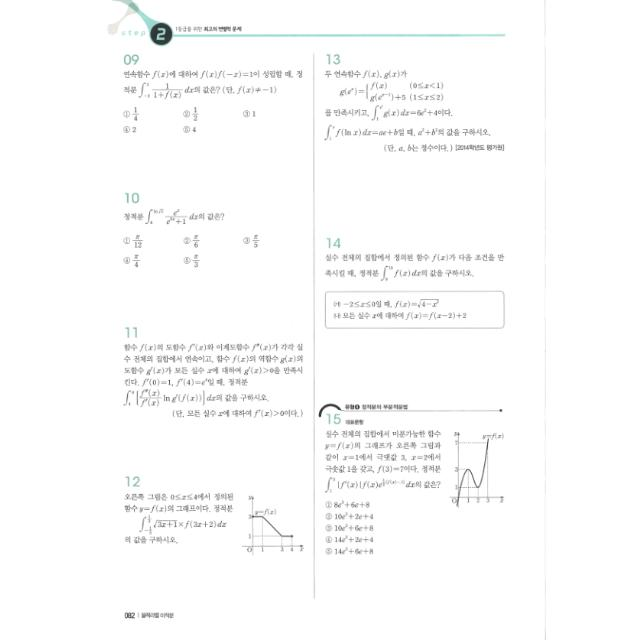multiple: (315, 390, 515, 562), (113, 47, 307, 141), (116, 184, 308, 274)
short: (316, 46, 510, 162), (318, 226, 510, 334), (116, 318, 308, 426), (115, 466, 308, 558)
